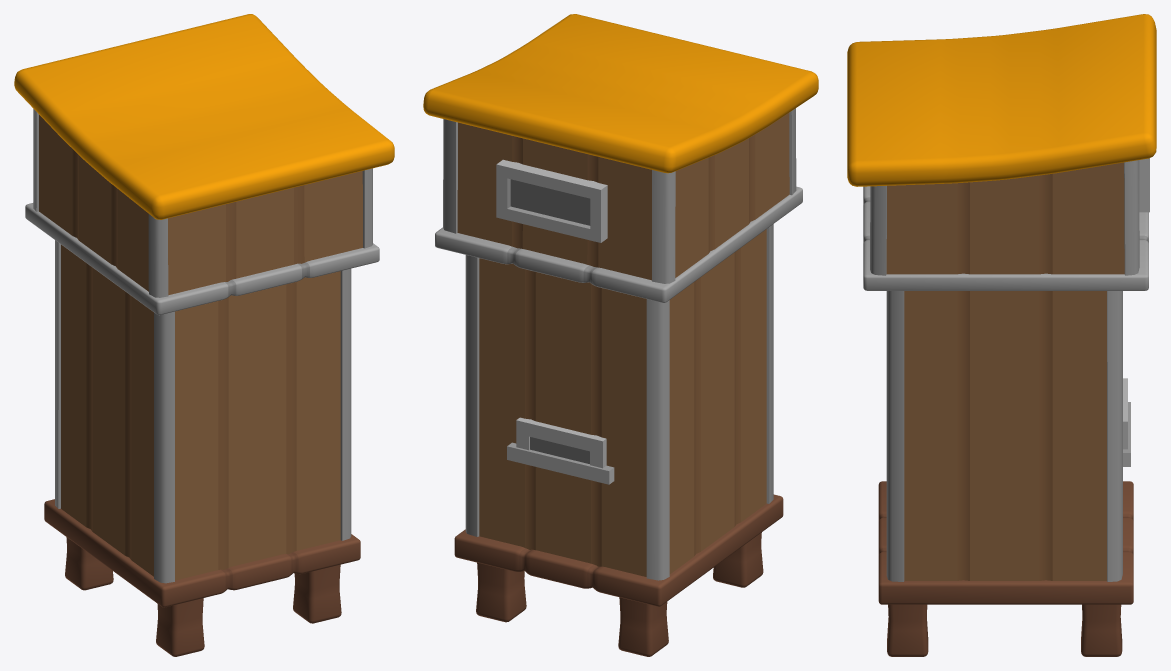
The model's file is prop3.fbx.
3 views of the same model, side by side, from view 1: azimuth 30°, elevation 25°; view 2: azimuth 150°, elevation 25°; view 3: azimuth 270°, elevation 25° (orthographic). The views are drawn at different scales.
Parts seen in each view (by area): view 1: Cube; view 2: Cube; view 3: Cube.
Part boxes in pixels (x1,y1,x2,y2): Cube: (14,14,394,656); Cube: (423,14,818,656); Cube: (847,14,1156,656).
Size of the model in its own units: 1.22 by 1.27 by 2.45.
